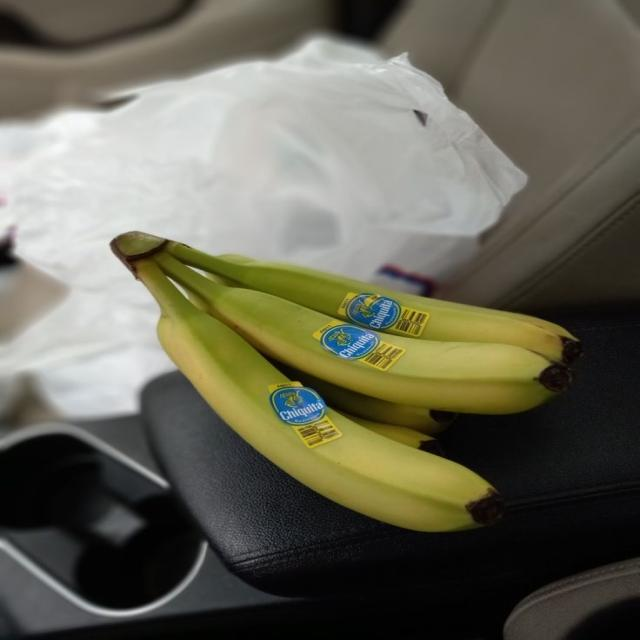unpeal banana: (112, 237, 502, 531), (145, 239, 572, 413), (167, 242, 581, 362), (271, 359, 456, 435), (275, 363, 456, 435), (337, 412, 444, 456)
